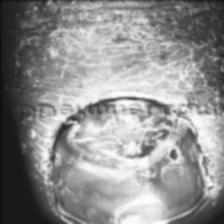Toxin: (9, 0, 220, 101), (39, 122, 215, 168)
